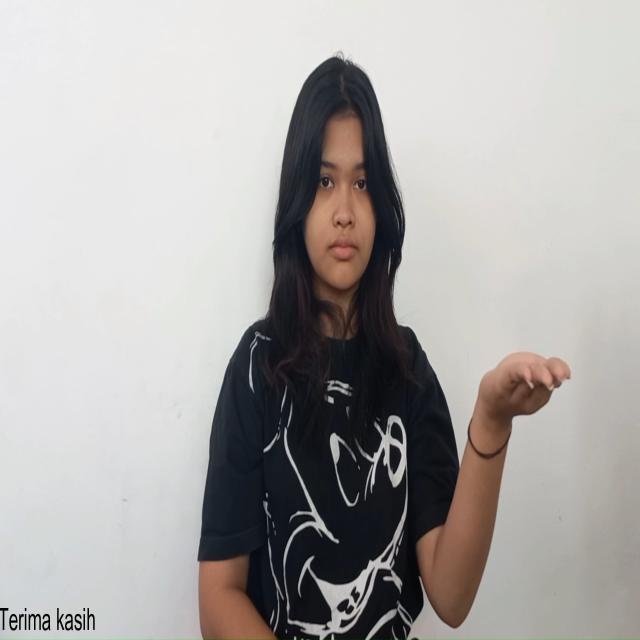Terima kasih -BISINDO-: (470, 346, 572, 448)
